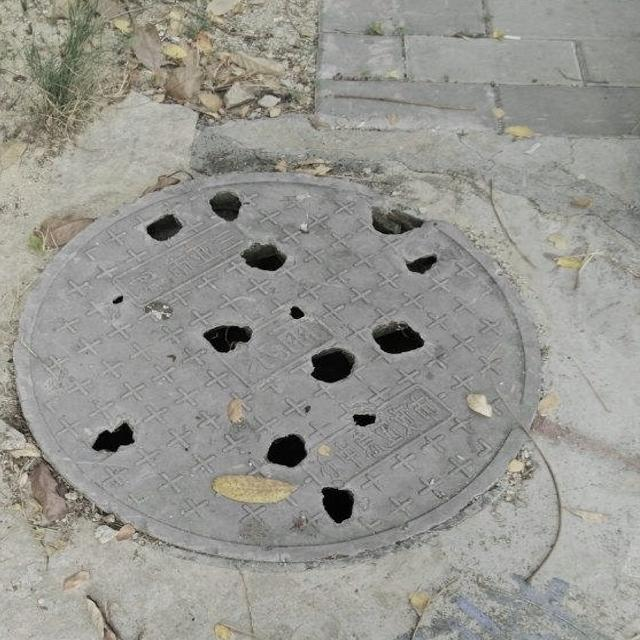broke: (11, 170, 543, 562)
